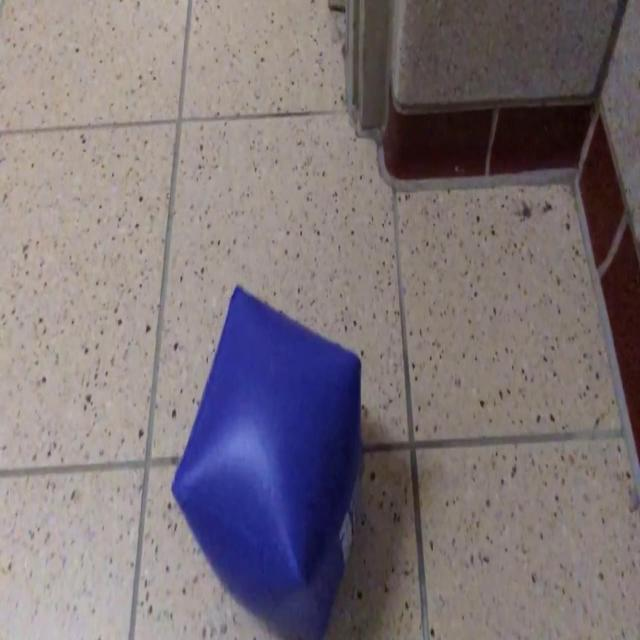frc_cube: (170, 285, 362, 640)
